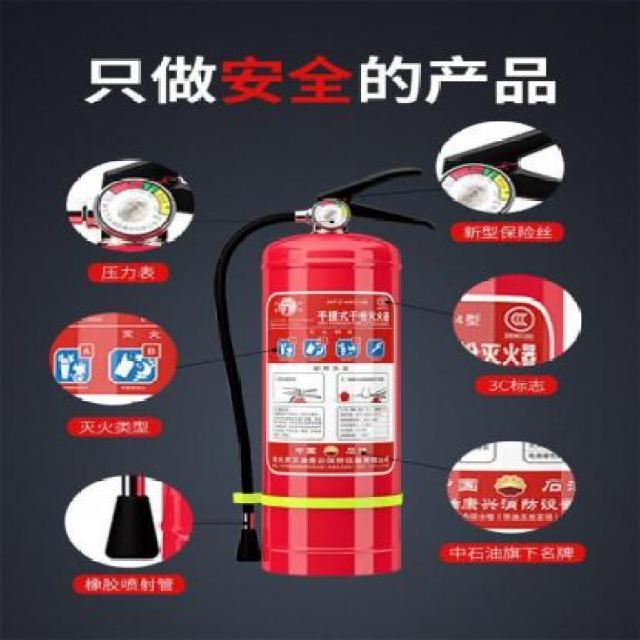fire extinguisher: (211, 168, 440, 577)
